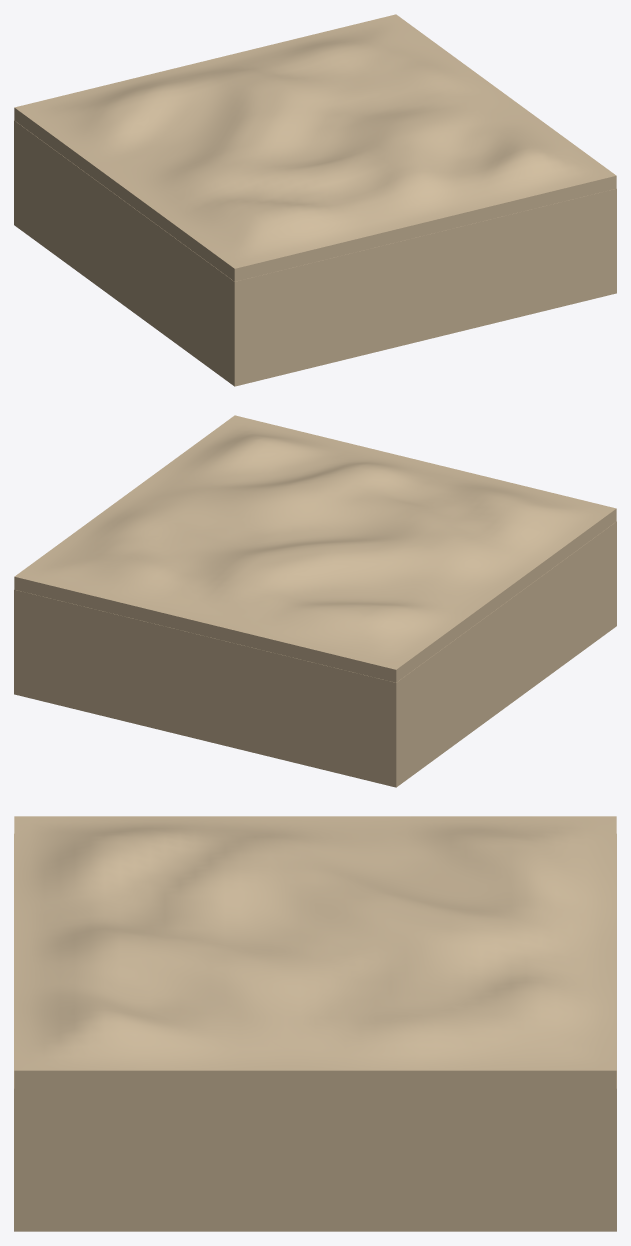
File: tile_sand.glb
The picture shows the model from 3 angles, top to bottom: view 1: azimuth 30°, elevation 25°; view 2: azimuth 150°, elevation 25°; view 3: azimuth 270°, elevation 25°; orthographic projection. The views are drawn at different scales.
Parts seen in each view (by area): view 1: sand_cap, sand_body; view 2: sand_cap, sand_body; view 3: sand_cap, sand_body.
Part boxes in pixels (box(x1,y1,x2,y2)): sand_cap: box(14, 14, 616, 281); sand_body: box(14, 120, 616, 386); sand_cap: box(14, 415, 616, 682); sand_body: box(14, 521, 616, 787); sand_cap: box(14, 816, 616, 1088); sand_body: box(14, 834, 616, 1231).
Bounding box in the file's own units: 1.7 × 0.564 × 1.7.
